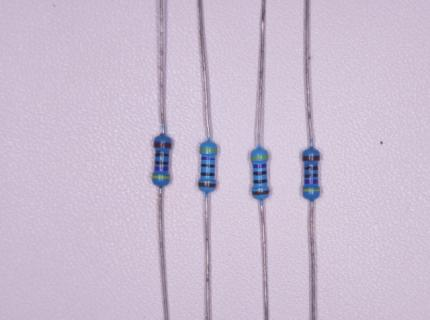Black band: (252, 171, 267, 176), (154, 152, 169, 157), (154, 160, 169, 165), (253, 179, 267, 184), (303, 166, 319, 170), (304, 174, 319, 178), (201, 172, 215, 176), (201, 164, 215, 168)
Brown band: (153, 142, 171, 149), (302, 155, 321, 161), (198, 182, 216, 188), (252, 190, 270, 195)
Violet band: (154, 166, 169, 172), (201, 156, 216, 161), (304, 180, 319, 184), (253, 164, 267, 168)
Yellow band: (250, 155, 269, 160), (199, 147, 218, 152), (152, 175, 170, 179), (302, 188, 320, 191)
